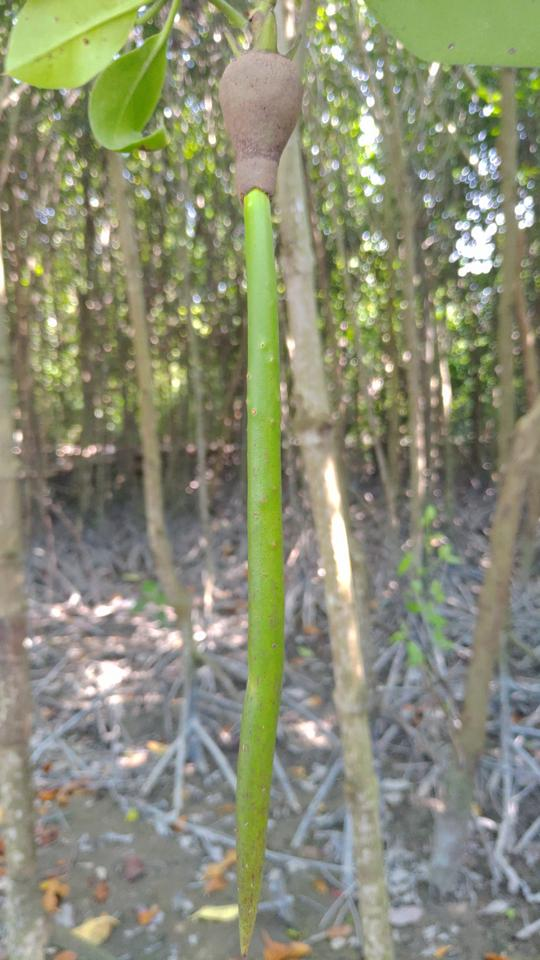mentah: (197, 30, 326, 948)
